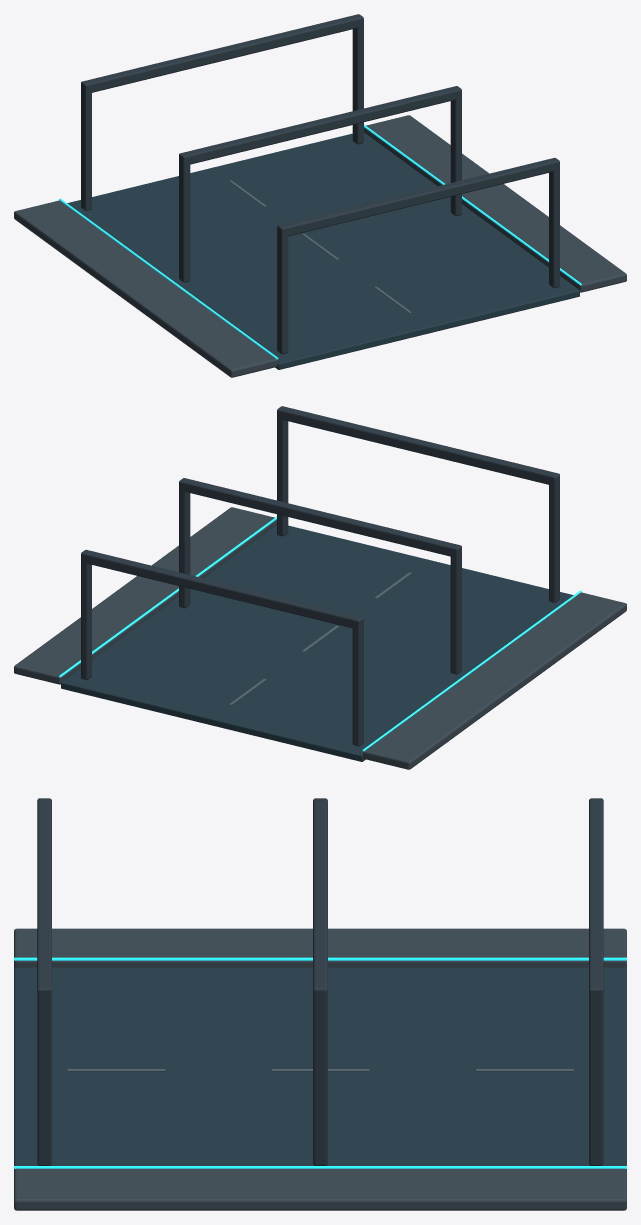
Rendered from tunnel_lod2.glb.
The picture shows the model from 3 angles, top to bottom: view 1: azimuth 30°, elevation 25°; view 2: azimuth 150°, elevation 25°; view 3: azimuth 270°, elevation 25°; orthographic projection. The views are drawn at different scales.
Parts seen in each view (by area): view 1: ND_Batch_ND_WetAsphalt, ND_Batch_ND_RoadEdge, ND_Batch_ND_RooftopMetal, ND_Batch_ND_CityCyanMuted; view 2: ND_Batch_ND_WetAsphalt, ND_Batch_ND_RoadEdge, ND_Batch_ND_RooftopMetal, ND_Batch_ND_CityCyanMuted; view 3: ND_Batch_ND_WetAsphalt, ND_Batch_ND_RoadEdge, ND_Batch_ND_RooftopMetal, ND_Batch_ND_CityCyanMuted, ND_Batch_ND_CityConcreteLight.
Part boxes in pixels (left/top/right/bottom): ND_Batch_ND_WetAsphalt: left=67, top=132, right=579, bottom=369; ND_Batch_ND_RoadEdge: left=14, top=115, right=626, bottom=377; ND_Batch_ND_RooftopMetal: left=81, top=14, right=559, bottom=354; ND_Batch_ND_CityCyanMuted: left=59, top=124, right=581, bottom=359; ND_Batch_ND_WetAsphalt: left=61, top=524, right=573, bottom=761; ND_Batch_ND_RoadEdge: left=14, top=507, right=626, bottom=769; ND_Batch_ND_RooftopMetal: left=81, top=406, right=559, bottom=746; ND_Batch_ND_CityCyanMuted: left=59, top=516, right=581, bottom=751; ND_Batch_ND_WetAsphalt: left=14, top=967, right=626, bottom=1169; ND_Batch_ND_RoadEdge: left=14, top=928, right=626, bottom=1210; ND_Batch_ND_RooftopMetal: left=37, top=798, right=603, bottom=1165; ND_Batch_ND_CityCyanMuted: left=14, top=957, right=626, bottom=1168; ND_Batch_ND_CityConcreteLight: left=67, top=1069, right=573, bottom=1071.
Bounding box in the file's own units: 21 × 6.73 × 20.
